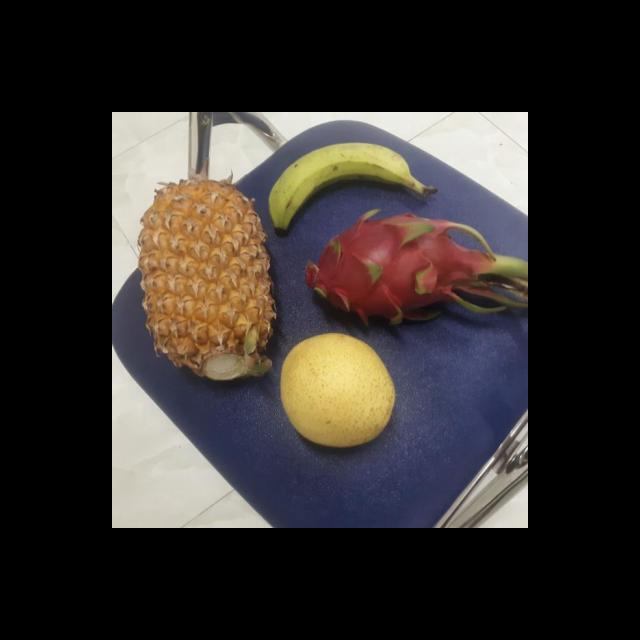banana: (261, 142, 418, 228)
pear: (273, 332, 398, 448)
pineapple: (136, 181, 274, 385)
pitaya: (294, 210, 479, 327)
